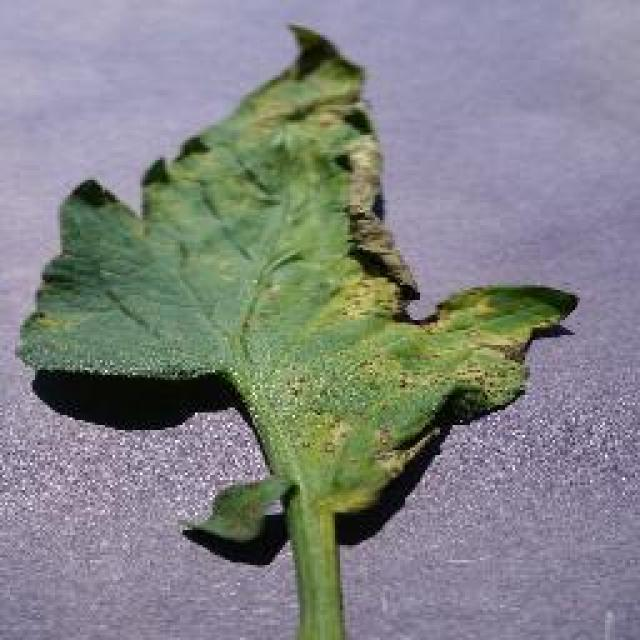Tomato target spot leaf: (15, 19, 577, 556)
